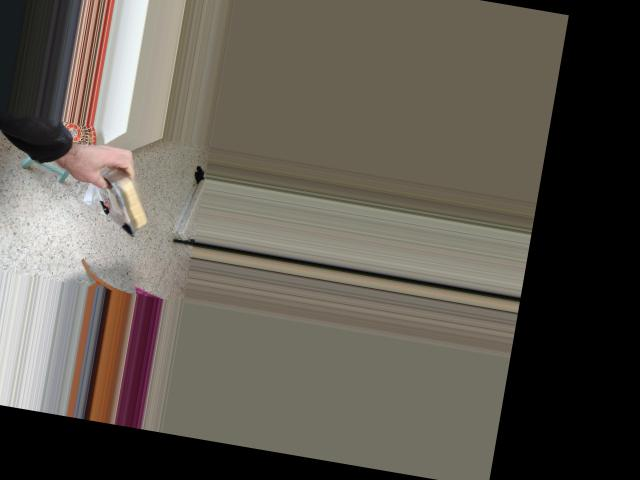cheese: (70, 132, 173, 253)
